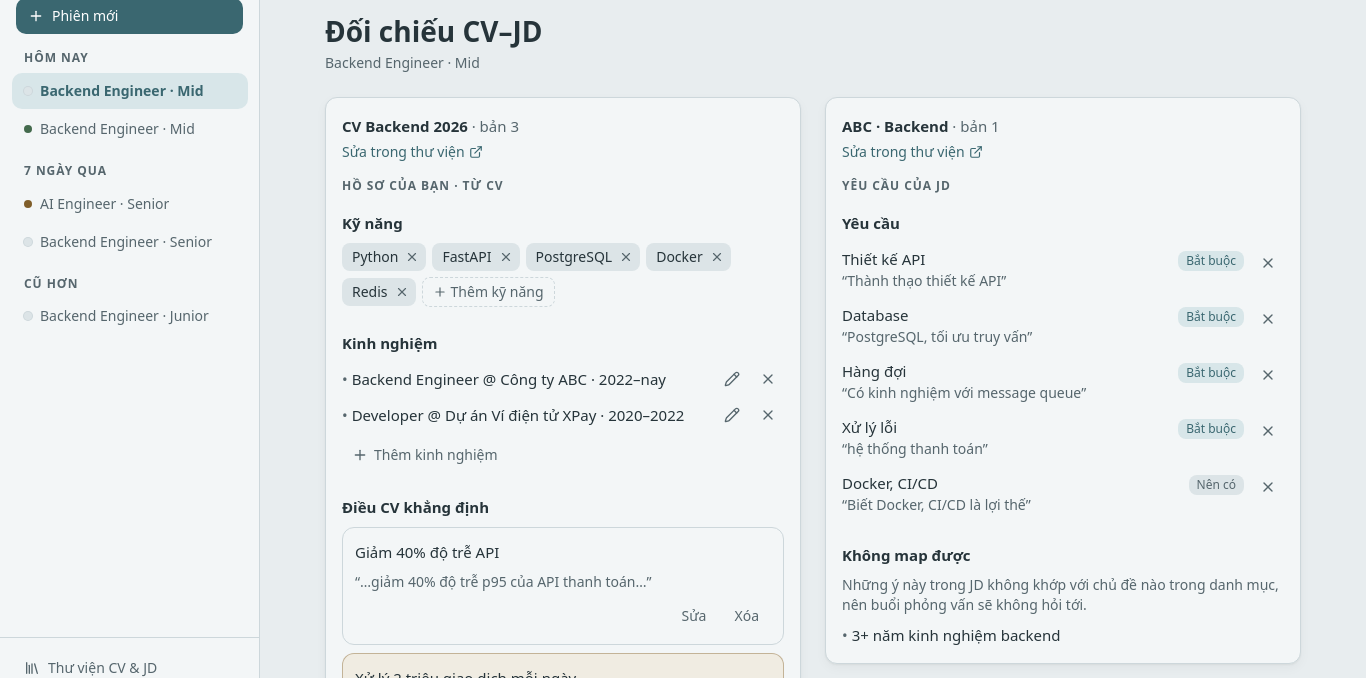
Test: SessionMatchPage when analysed (UI-5.3) › a failed save stays on the page with the edits
Click the button named "Xóa Python" at (412, 257), box [402,247,422,267]
(page scrolled)
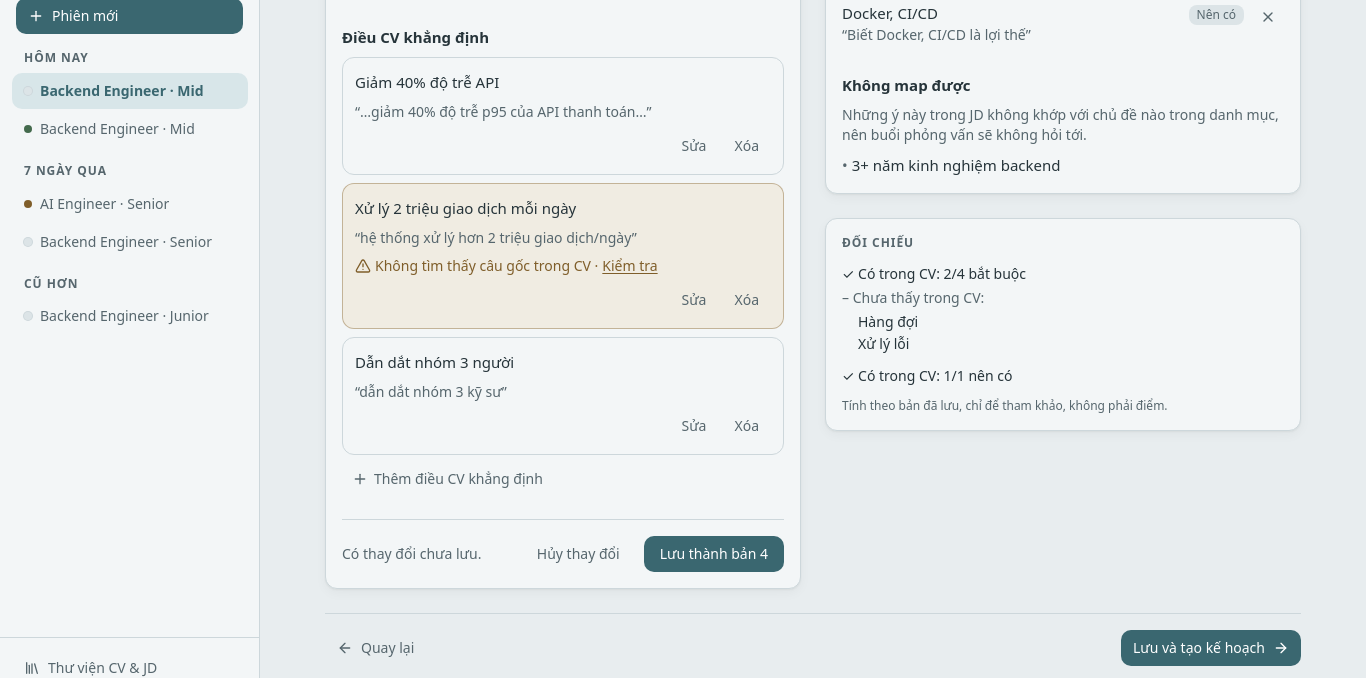
Click the button "Lưu và tạo kế hoạch" at (1211, 648), box [1121,630,1301,666]
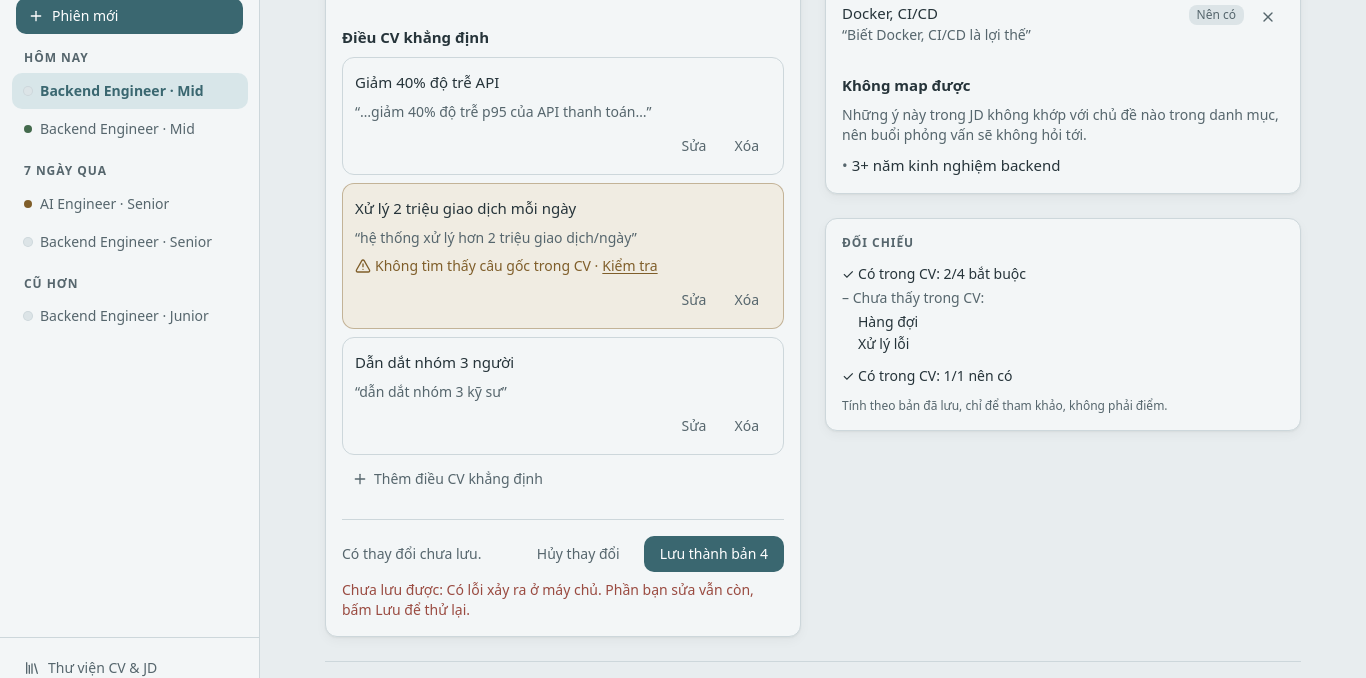
Check: the text "Python" is not shown
Check: the text "Chưa lưu được" is shown, box [342,580,447,599]
